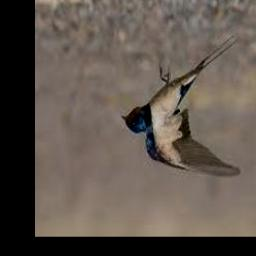Swallow: (121, 36, 241, 178)
